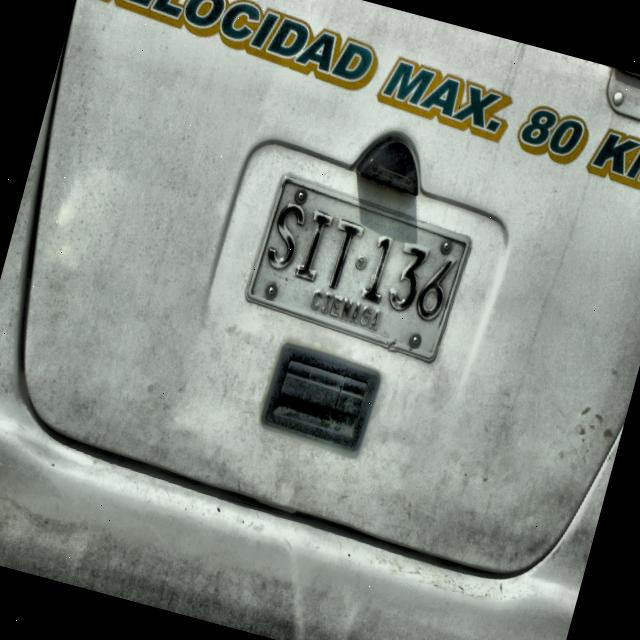1: (356, 230, 401, 307)
3: (382, 238, 434, 319)
6: (409, 249, 459, 328)
I: (288, 207, 338, 287)
S: (260, 199, 311, 278)
T: (316, 216, 367, 295)
